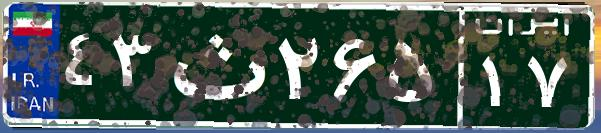1: (475, 38, 525, 113)
2: (273, 28, 330, 110)
3: (110, 28, 158, 105)
4: (57, 26, 110, 107)
5: (385, 28, 445, 110)
6: (330, 28, 385, 110)
7: (525, 38, 570, 115)
ث: (158, 15, 273, 115)
